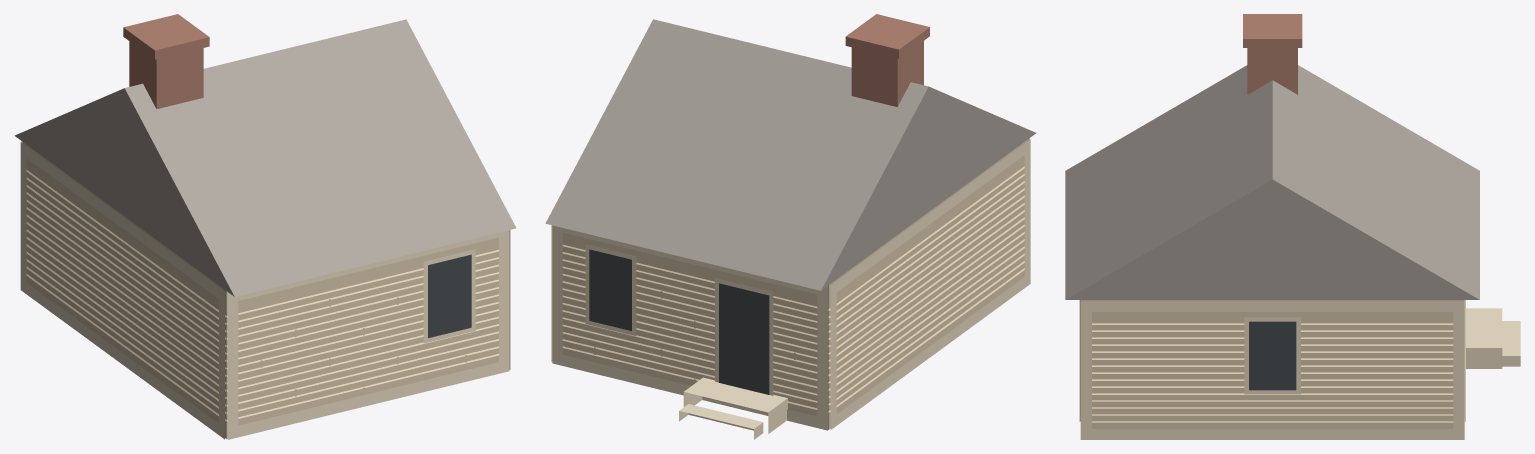
File: recon_1835_blk_south_water_lasalle_d3_03__inferred_1835.glb
3 renders of one model, left to right at view 1: azimuth 30°, elevation 25°; view 2: azimuth 150°, elevation 25°; view 3: azimuth 270°, elevation 25°, orthographic. The views are drawn at different scales.
Visible parts, largest first — view 1: recon_1835_blk_south_water_lasalle_d3_03__inferred_1835; view 2: recon_1835_blk_south_water_lasalle_d3_03__inferred_1835; view 3: recon_1835_blk_south_water_lasalle_d3_03__inferred_1835.
Boxes of the visible parts, x1,y1,x2,y2 form: recon_1835_blk_south_water_lasalle_d3_03__inferred_1835: [14, 14, 516, 439]; recon_1835_blk_south_water_lasalle_d3_03__inferred_1835: [545, 14, 1035, 439]; recon_1835_blk_south_water_lasalle_d3_03__inferred_1835: [1065, 14, 1520, 439].
Bounding box in the file's own units: 5.12 × 5.5 × 7.5.
